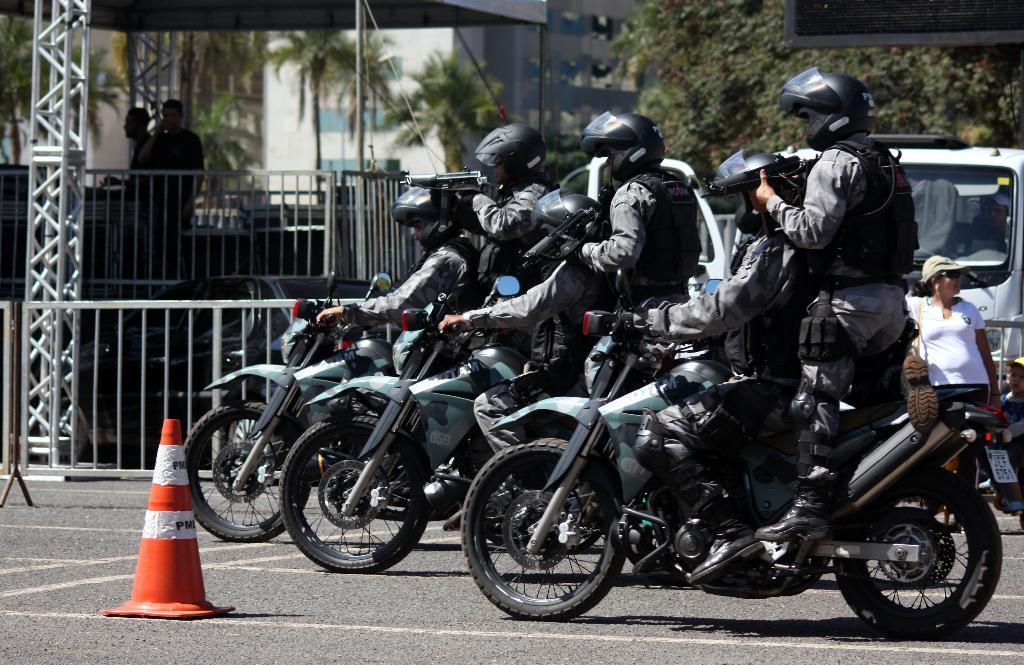helmet: (700, 150, 802, 234), (777, 66, 876, 152), (580, 110, 665, 181), (529, 188, 602, 261), (390, 185, 464, 251), (473, 123, 546, 183)
nohelmet: (922, 255, 970, 298), (123, 107, 150, 141), (162, 98, 185, 131)
